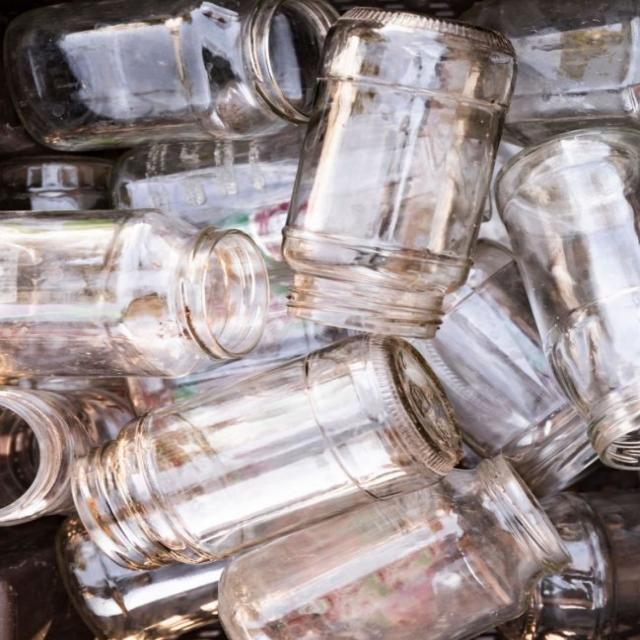electronic: (69, 336, 460, 574), (284, 5, 519, 340), (216, 449, 573, 640), (3, 2, 350, 160), (494, 126, 640, 474), (0, 208, 271, 382)
